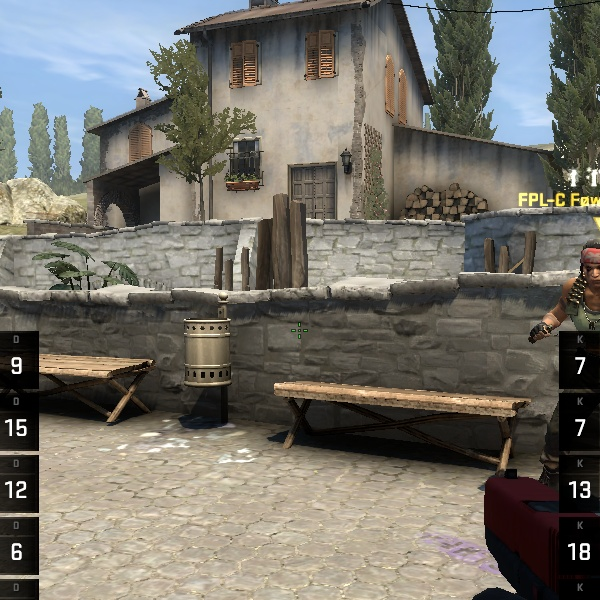t_head: (570, 231, 599, 295)
